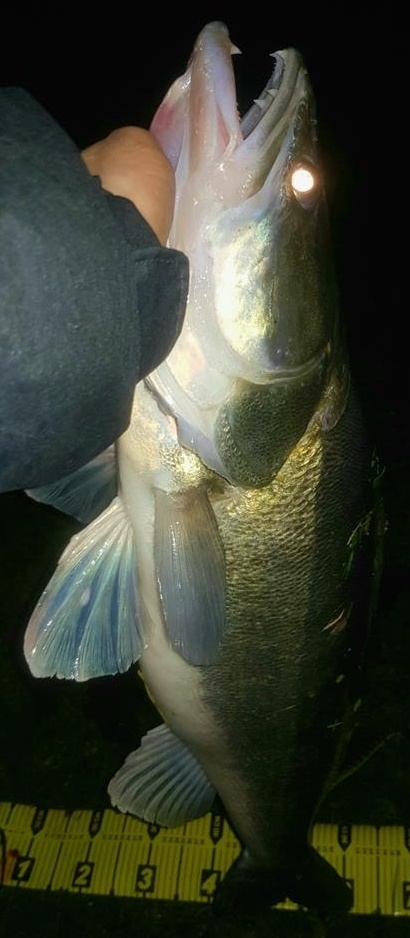Sander lucioperca: (20, 20, 390, 918)
